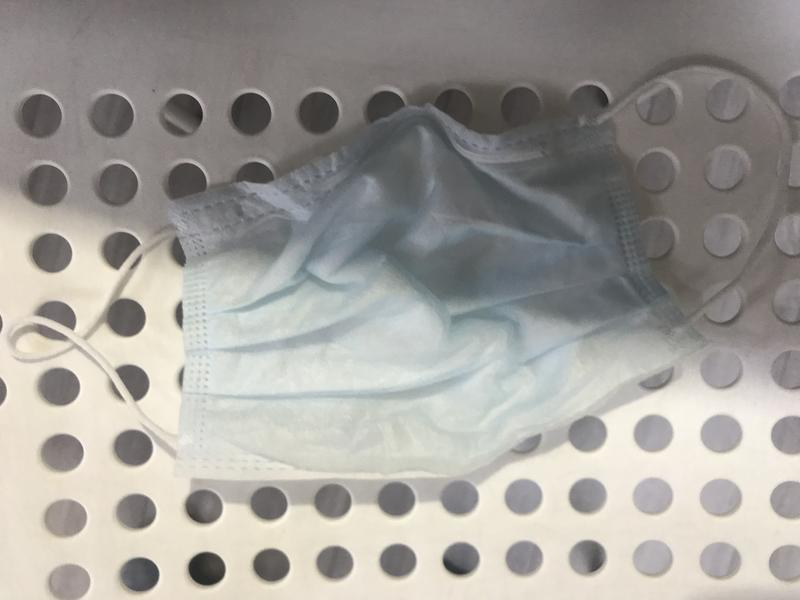medical_mask: (4, 66, 791, 480)
